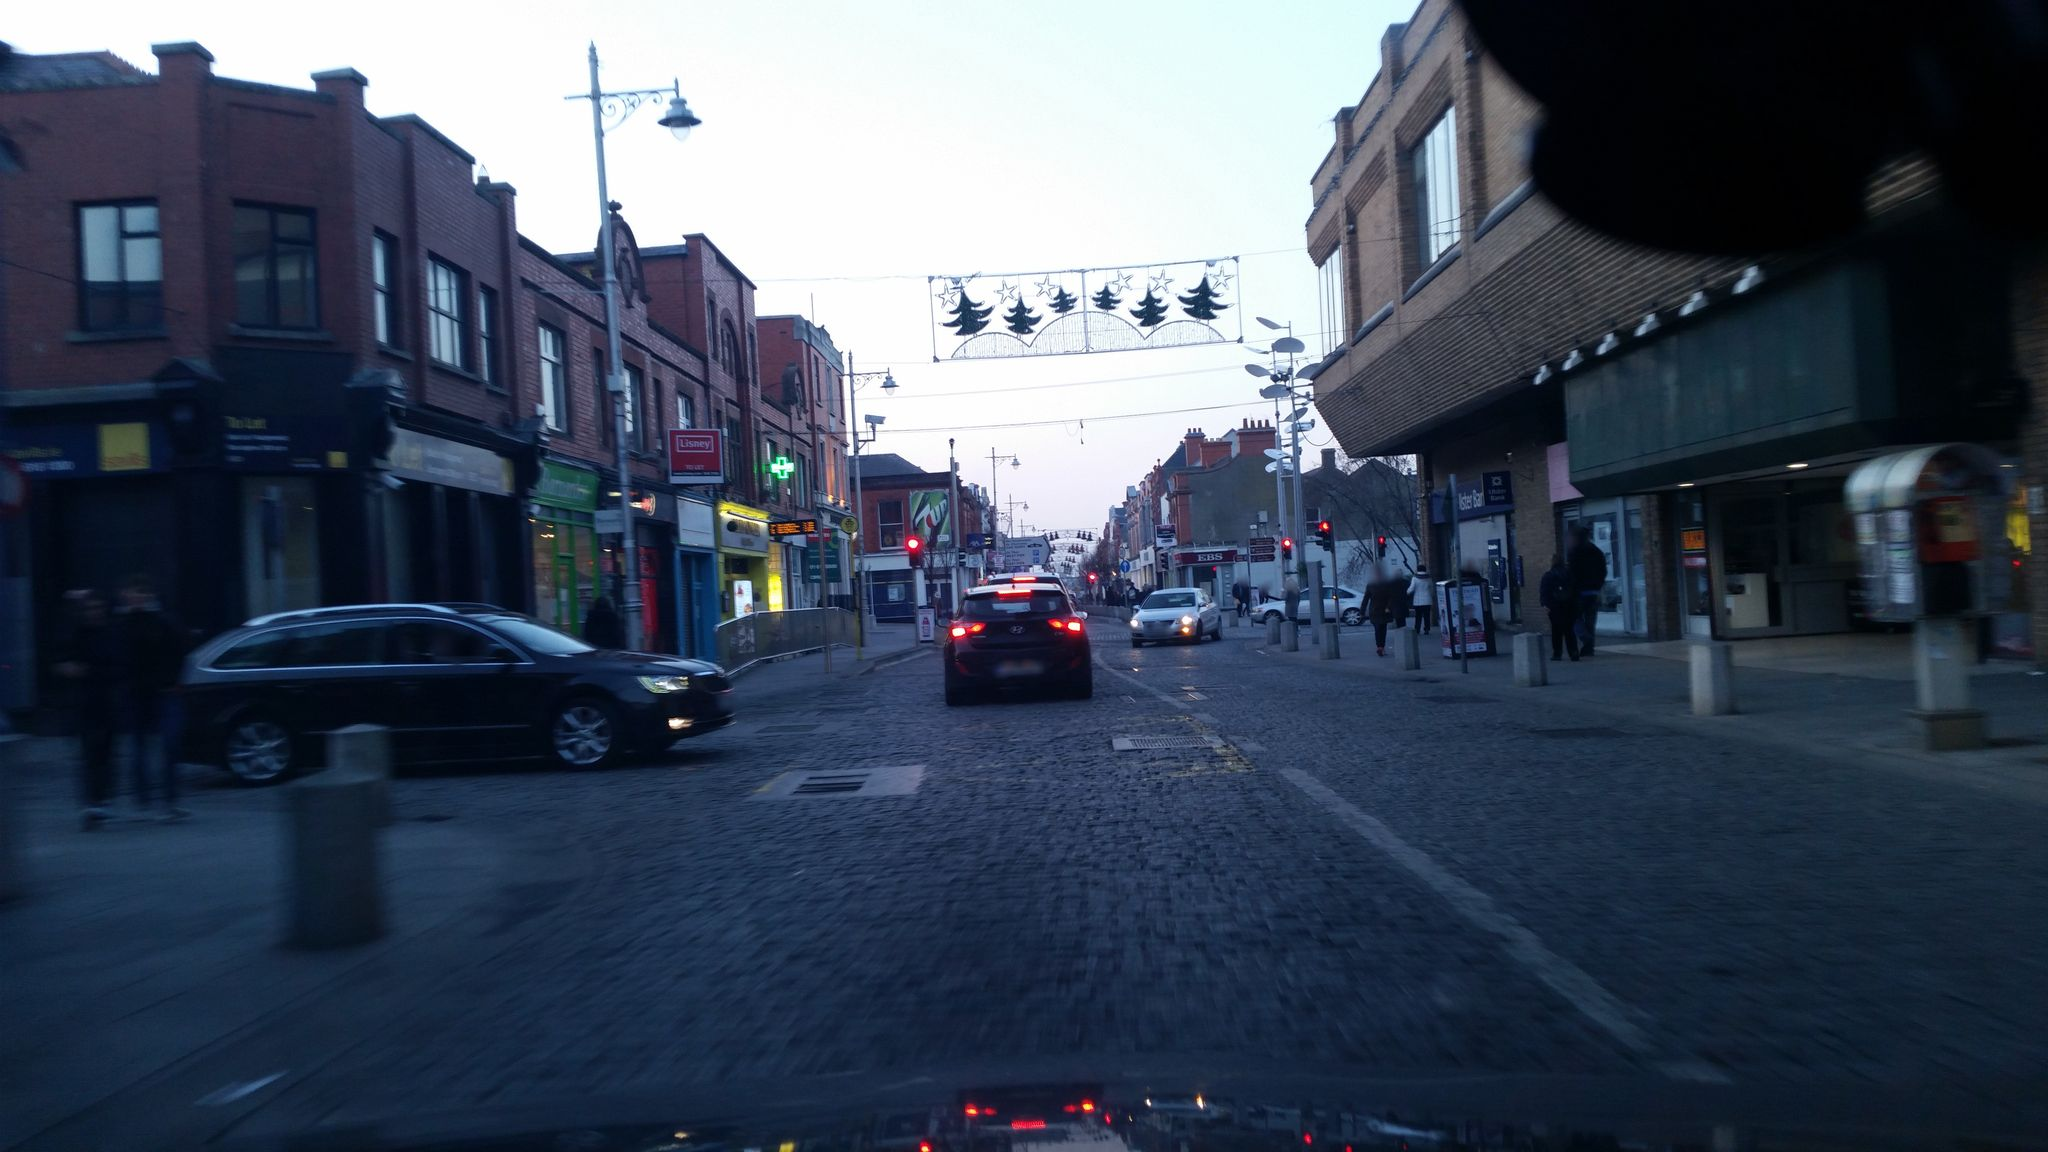property sign: (667, 415, 736, 492), (791, 525, 854, 589)
